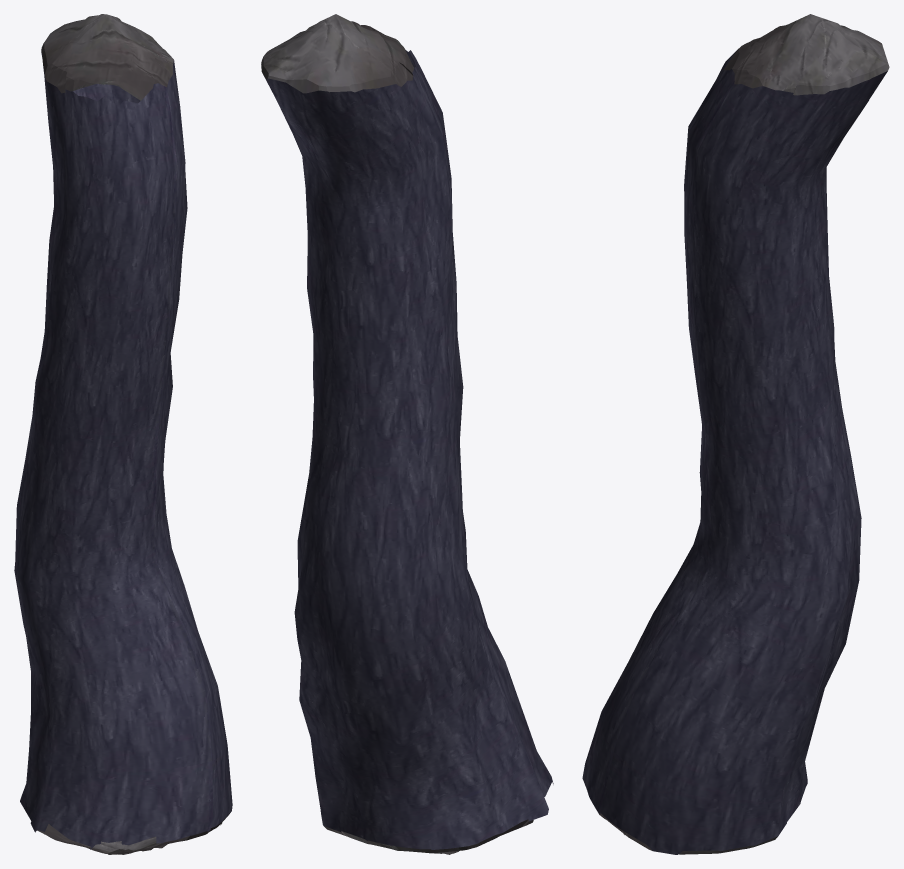
3 renders of one model, left to right at view 1: azimuth 30°, elevation 25°; view 2: azimuth 150°, elevation 25°; view 3: azimuth 270°, elevation 25°, orthographic. The views are drawn at different scales.
Parts seen in each view (by area): view 1: SM_Willow_01_half_bottom_LOD0; view 2: SM_Willow_01_half_bottom_LOD0; view 3: SM_Willow_01_half_bottom_LOD0.
Part boxes in pixels (x1,y1,x2,y2): SM_Willow_01_half_bottom_LOD0: (14,14,232,854); SM_Willow_01_half_bottom_LOD0: (261,14,553,854); SM_Willow_01_half_bottom_LOD0: (582,14,889,854).
Size of the model in its own units: 1.19 by 4.73 by 1.56.
1 material, 1 textured.
